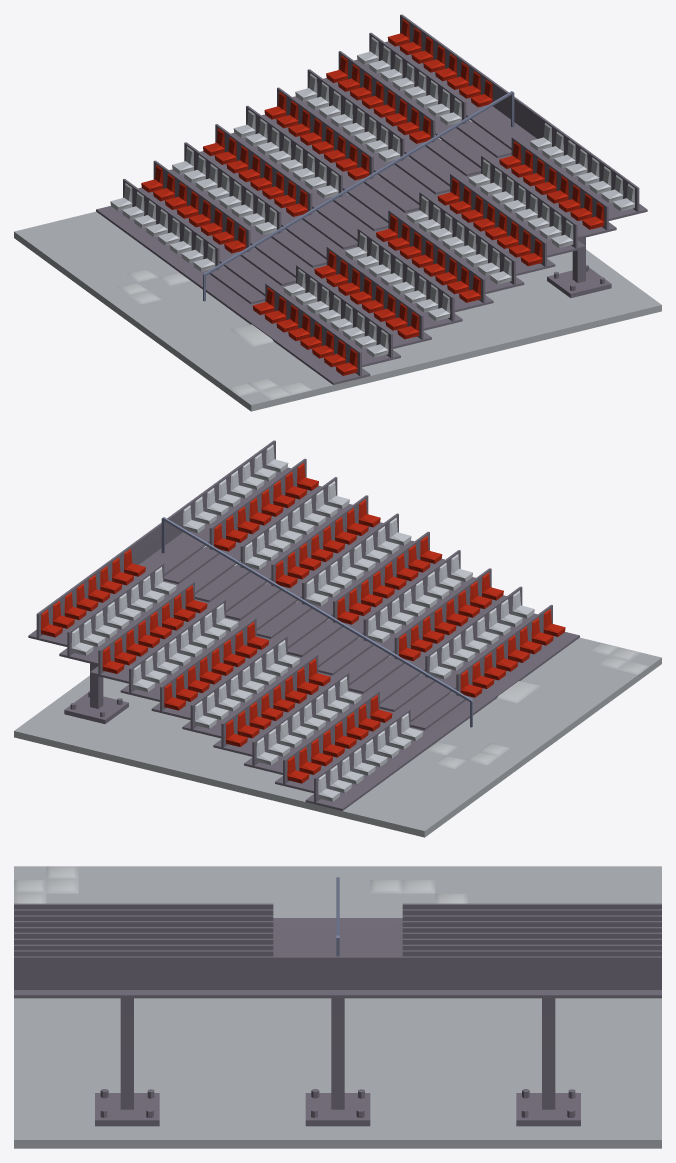
Rendered from Stand_1E.fbx.
3 views of the same model, one above another, from view 1: azimuth 30°, elevation 25°; view 2: azimuth 150°, elevation 25°; view 3: azimuth 270°, elevation 25° (orthographic). The views are drawn at different scales.
Parts seen in each view (by area): view 1: Stand_1E; view 2: Stand_1E; view 3: Stand_1E.
Part boxes in pixels (<box>): Stand_1E: <box>14,14,661,411</box>; Stand_1E: <box>14,440,661,837</box>; Stand_1E: <box>14,866,661,1148</box>.
Bounding box in the file's own units: 2000 × 655 × 2000.
